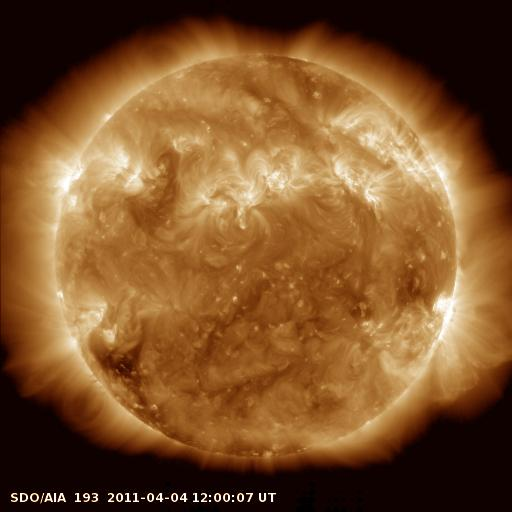coronal_hole: (82, 323, 155, 413)
